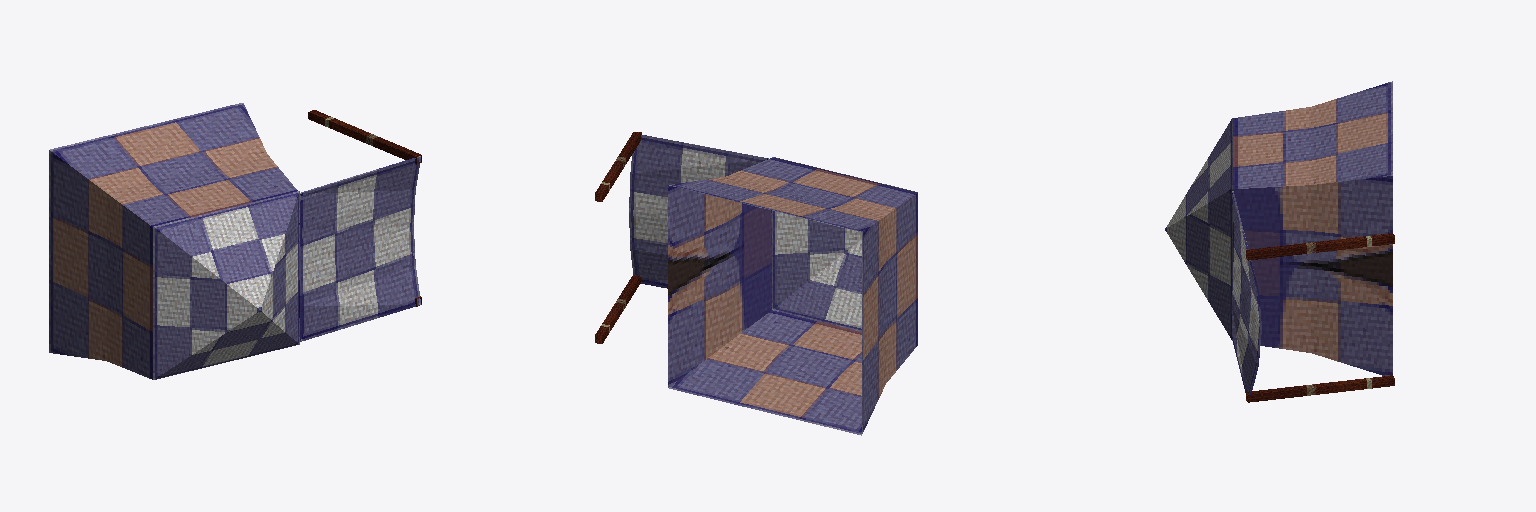
The picture shows the model from 3 angles: view 1: azimuth 30°, elevation 25°; view 2: azimuth 150°, elevation 25°; view 3: azimuth 270°, elevation 25°; orthographic projection.
Size of the model in its own units: 27.11 by 17.5 by 17.97.
4 materials, 4 textured.